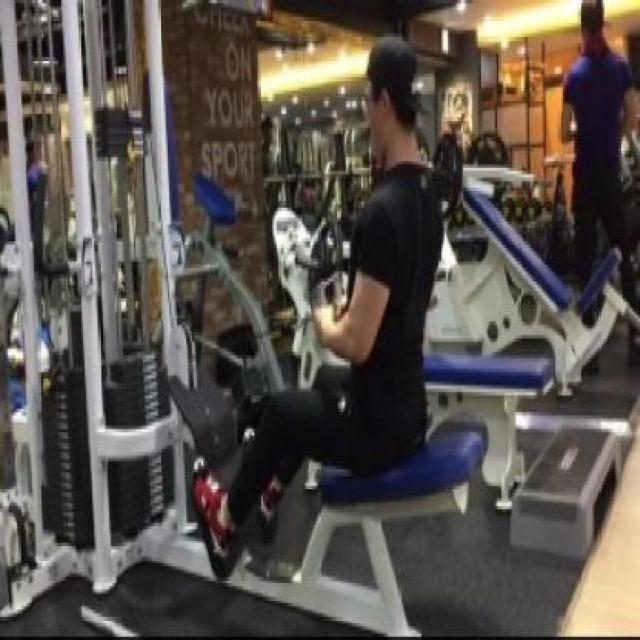Seated Cable Rows: (3, 4, 498, 640)
